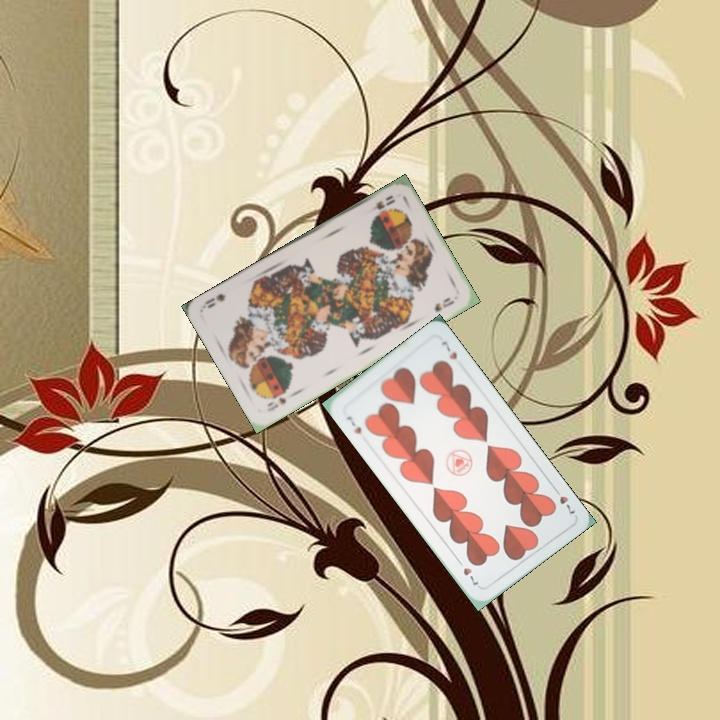H7: (549, 483, 578, 517), (342, 411, 364, 436)
SO: (362, 191, 398, 216), (263, 390, 297, 414)
